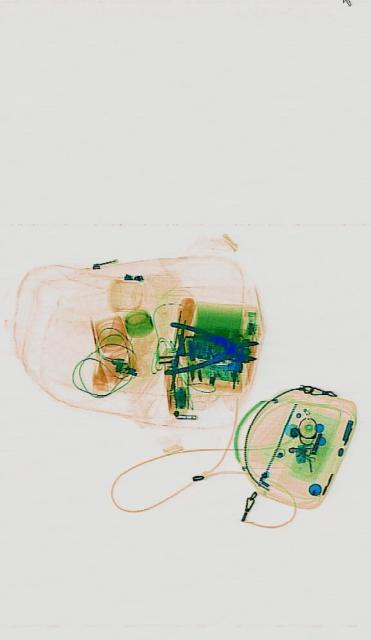Pliers: (162, 319, 257, 379)
